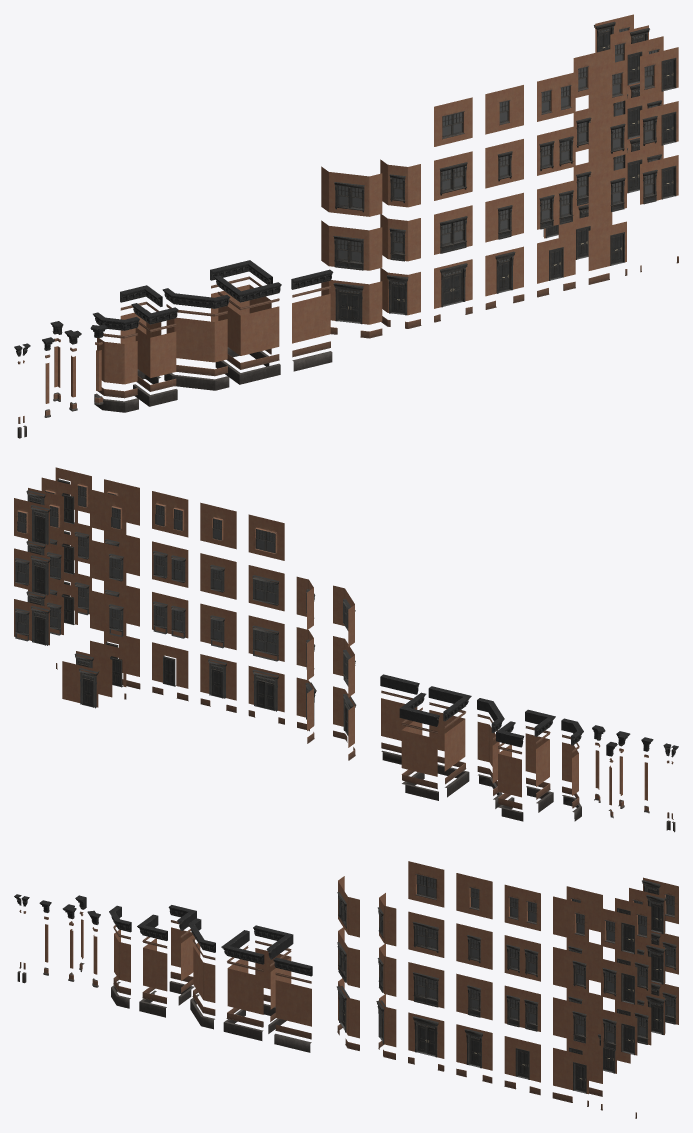
Rendered from modular_urban_apartments_facade.glb.
3 renders of one model, top to bottom at view 1: azimuth 30°, elevation 25°; view 2: azimuth 150°, elevation 25°; view 3: azimuth 330°, elevation 25°, orthographic. The views are drawn at different scales.
Parts seen in each view (by area): view 1: wall_standard_corner_large_01, wall_standard_angled_large_01, wall_window_angled_large_02, wall_window_angled_large_01, wall_standard_corner_small_01, wall_standard_standard_01, wall_standard_angled_small_01, wall_window_offset_small_05, wall_window_centered_small_03, wall_window_centered_small_02, wall_door_angled_large_01, wall_window_angled_small_02 (+38 smaller); view 2: wall_standard_corner_large_02, wall_standard_corner_large_01, wall_window_offset_small_06, wall_window_centered_small_03, wall_window_centered_small_02, wall_window_offset_small_04, wall_window_centered_small_01, wall_window_offset_small_02, wall_window_centered_double_03, wall_door_centered_small_02, wall_window_centered_large_03, door_window_small_04 (+38 smaller); view 3: wall_standard_corner_large_01, wall_standard_standard_01, wall_window_centered_small_03, wall_window_offset_small_05, wall_window_centered_small_02, wall_window_offset_small_03, wall_window_centered_small_01, wall_window_centered_double_03, wall_door_centered_small_02, wall_standard_corner_small_01, wall_window_offset_small_01, wall_window_centered_large_03 (+58 smaller).
Boxes of the visible parts, <box> form: wall_standard_corner_large_01: <box>218,306,279,355</box>; wall_standard_angled_large_01: <box>166,317,227,362</box>; wall_window_angled_large_02: <box>321,166,382,216</box>; wall_window_angled_large_01: <box>321,220,382,270</box>; wall_standard_corner_small_01: <box>135,328,176,377</box>; wall_standard_standard_01: <box>292,294,330,343</box>; wall_standard_angled_small_01: <box>97,338,137,384</box>; wall_window_offset_small_05: <box>588,59,626,109</box>; wall_window_centered_small_03: <box>485,85,523,134</box>; wall_window_centered_small_02: <box>485,139,523,188</box>; wall_door_angled_large_01: <box>321,280,382,324</box>; wall_window_angled_small_02: <box>380,159,420,207</box>; wall_standard_corner_large_02: <box>401,721,437,776</box>; wall_standard_corner_large_01: <box>429,710,465,771</box>; wall_window_offset_small_06: <box>90,489,126,535</box>; wall_window_centered_small_03: <box>200,502,236,549</box>; wall_window_centered_small_02: <box>200,553,236,599</box>; wall_window_offset_small_04: <box>90,540,126,586</box>; wall_window_centered_small_01: <box>200,603,236,649</box>; wall_window_offset_small_02: <box>90,590,126,636</box>; wall_window_centered_double_03: <box>152,491,188,537</box>; wall_door_centered_small_02: <box>152,642,188,688</box>; wall_window_centered_large_03: <box>248,514,284,560</box>; door_window_small_04: <box>14,605,51,645</box>; wall_standard_corner_large_01: <box>227,959,263,1014</box>; wall_standard_standard_01: <box>275,980,311,1026</box>; wall_window_centered_small_03: <box>456,873,492,919</box>; wall_window_offset_small_05: <box>553,896,588,942</box>; wall_window_centered_small_02: <box>456,923,492,969</box>; wall_window_offset_small_03: <box>553,947,588,993</box>; wall_window_centered_small_01: <box>456,973,492,1020</box>; wall_window_centered_double_03: <box>504,884,540,930</box>; wall_door_centered_small_02: <box>504,1036,540,1082</box>; wall_standard_corner_small_01: <box>143,938,167,991</box>; wall_window_offset_small_01: <box>553,997,588,1043</box>; wall_window_centered_large_03: <box>408,861,444,907</box>.
Size of the model in its own units: 51.53 by 17 by 6.67.
5 materials, 5 textured.
